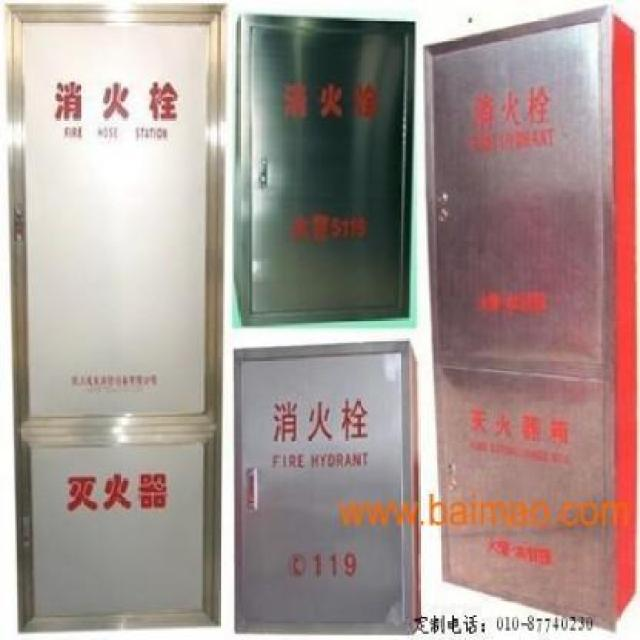firehydrant: (416, 1, 639, 640), (1, 0, 224, 633), (228, 6, 418, 329), (230, 335, 426, 640)
